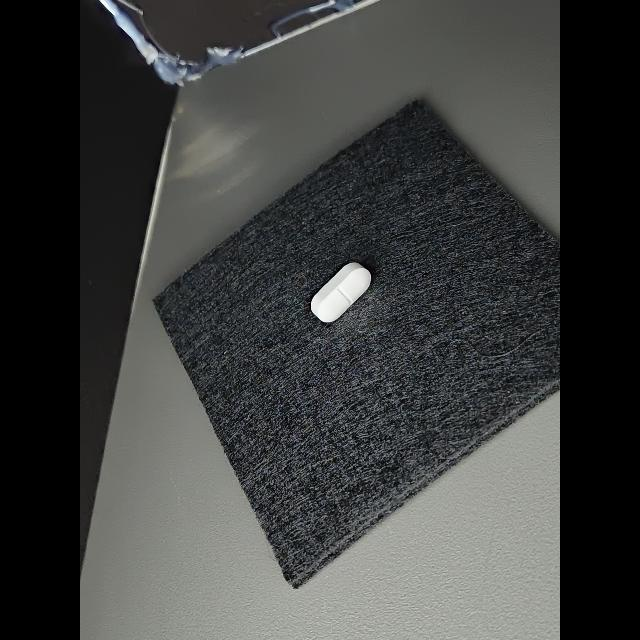Intact Pill: (311, 262, 371, 322)
